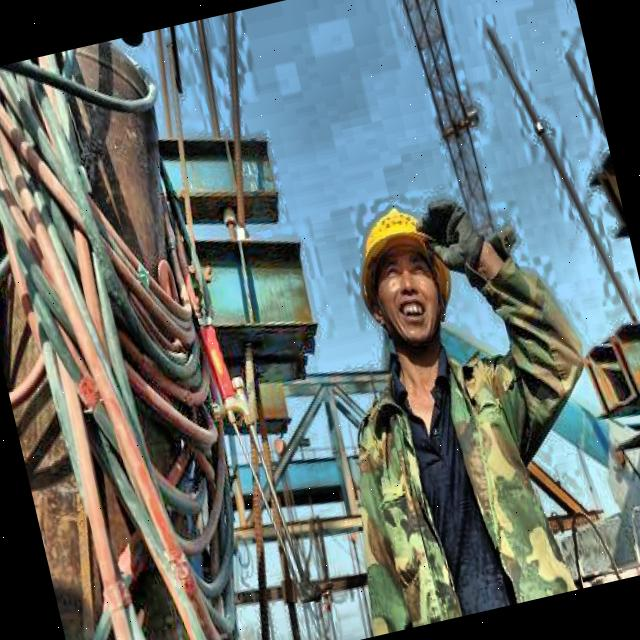helmet: (332, 184, 467, 379)
